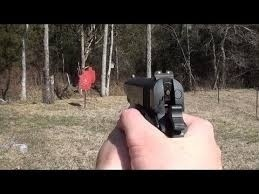pistol: (116, 68, 195, 139)
